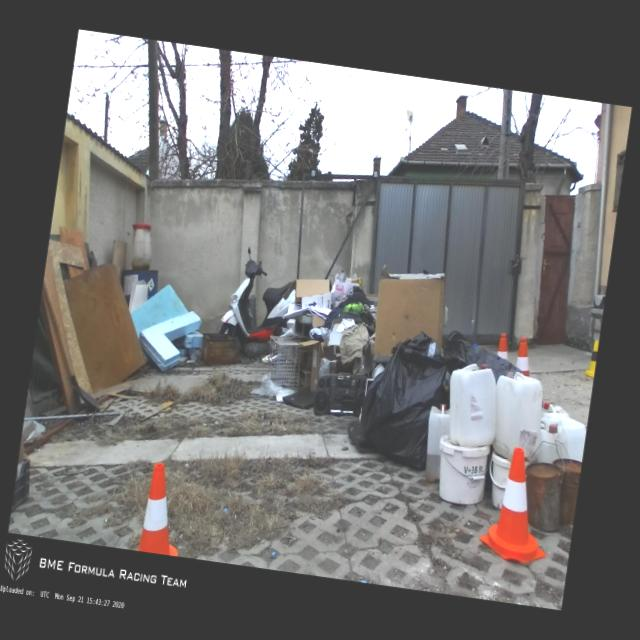large_orange_cone: (514, 337, 535, 378), (495, 331, 511, 360)
orange_cone: (476, 443, 560, 568), (136, 460, 190, 556)
yellow_cone: (583, 338, 599, 378)
